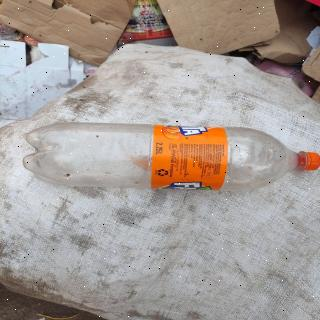Plastic-bottle: (21, 120, 320, 196)
